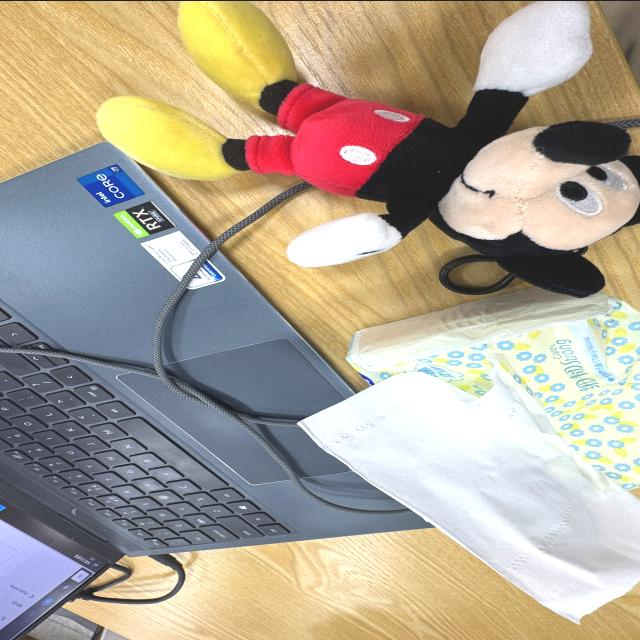mickey: (98, 1, 639, 296)
tissue: (300, 286, 640, 622)
